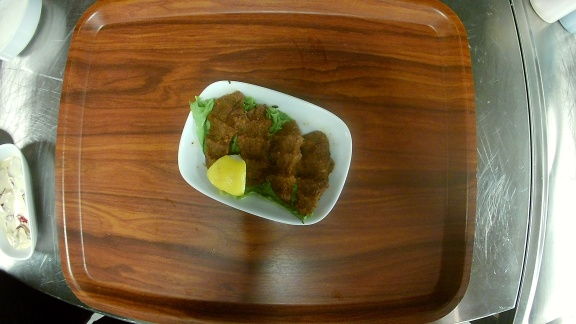cigkofte: (177, 79, 353, 226)
